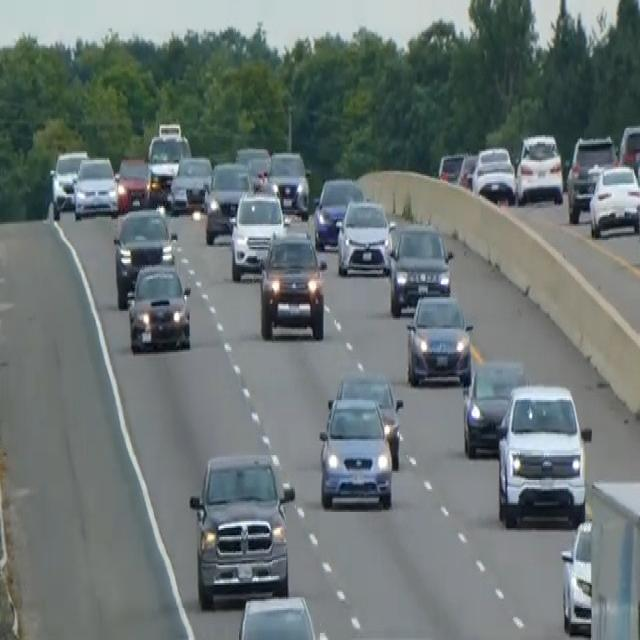car: (318, 393, 393, 510), (258, 228, 327, 342), (330, 368, 403, 468), (112, 205, 177, 308), (405, 290, 473, 386), (462, 355, 525, 457), (126, 260, 192, 354), (388, 220, 453, 314), (229, 187, 286, 281), (336, 196, 392, 276), (566, 134, 616, 222), (203, 158, 252, 244), (235, 592, 320, 638), (560, 517, 593, 635), (588, 162, 639, 238), (313, 174, 363, 249), (515, 130, 564, 204), (267, 147, 310, 217), (73, 153, 118, 219), (471, 144, 516, 204), (168, 153, 212, 213), (50, 148, 87, 210), (115, 154, 151, 212), (235, 144, 270, 185), (618, 121, 639, 172), (437, 149, 465, 185), (456, 151, 477, 190)
jeep: (188, 448, 296, 608), (494, 379, 590, 528)
